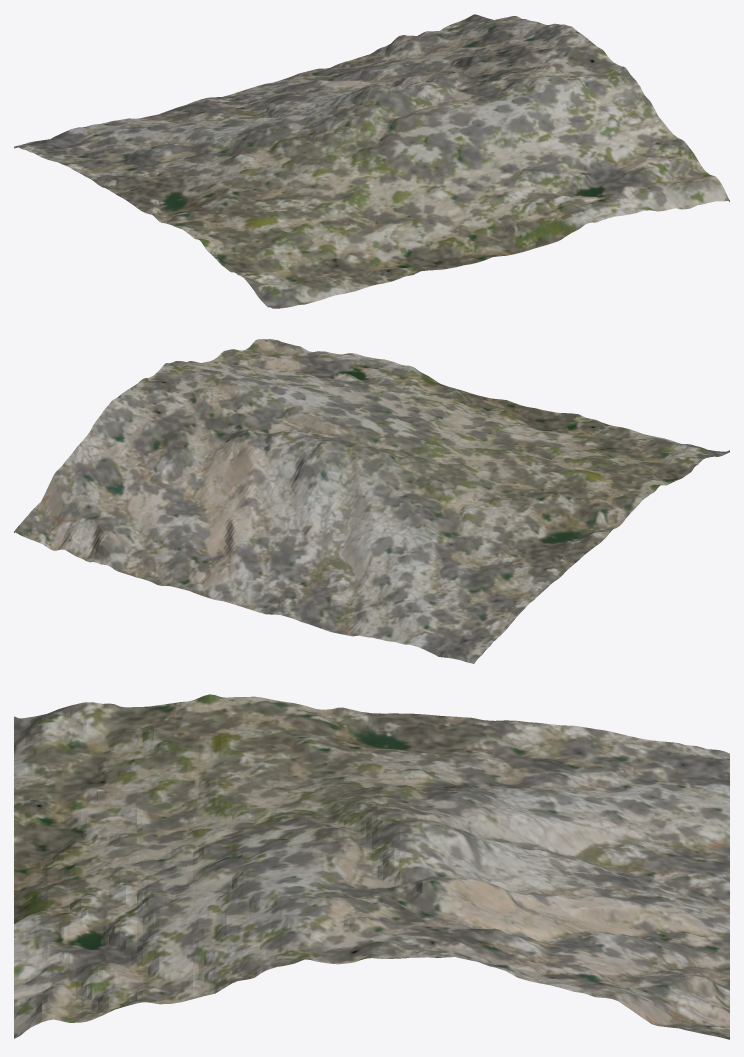
3 views of the same model, one above another, from view 1: azimuth 30°, elevation 25°; view 2: azimuth 150°, elevation 25°; view 3: azimuth 270°, elevation 25° (orthographic). The views are drawn at different scales.
Size of the model in its own units: 250 by 44.96 by 241.
1 material, 1 textured.
